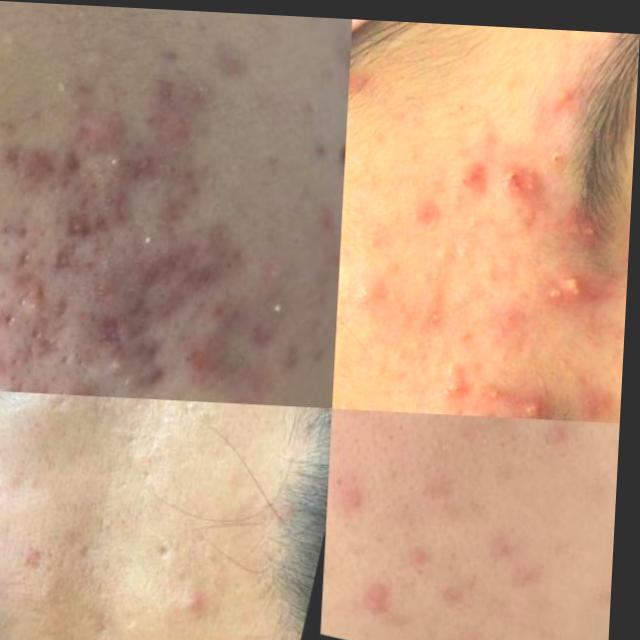8: (352, 555, 409, 632), (332, 456, 383, 524), (450, 148, 506, 194), (179, 581, 229, 625), (530, 411, 584, 451), (457, 619, 503, 640)
9: (545, 70, 582, 105)
blackheads: (52, 180, 275, 401), (68, 97, 173, 233), (509, 148, 560, 209), (148, 525, 205, 577), (77, 529, 135, 575), (556, 260, 600, 299), (51, 373, 111, 395), (524, 386, 560, 413), (178, 397, 227, 413)
dark spot: (159, 102, 210, 157), (277, 216, 327, 264), (0, 374, 31, 391)
whiteheads: (482, 363, 512, 406), (422, 291, 454, 328)
